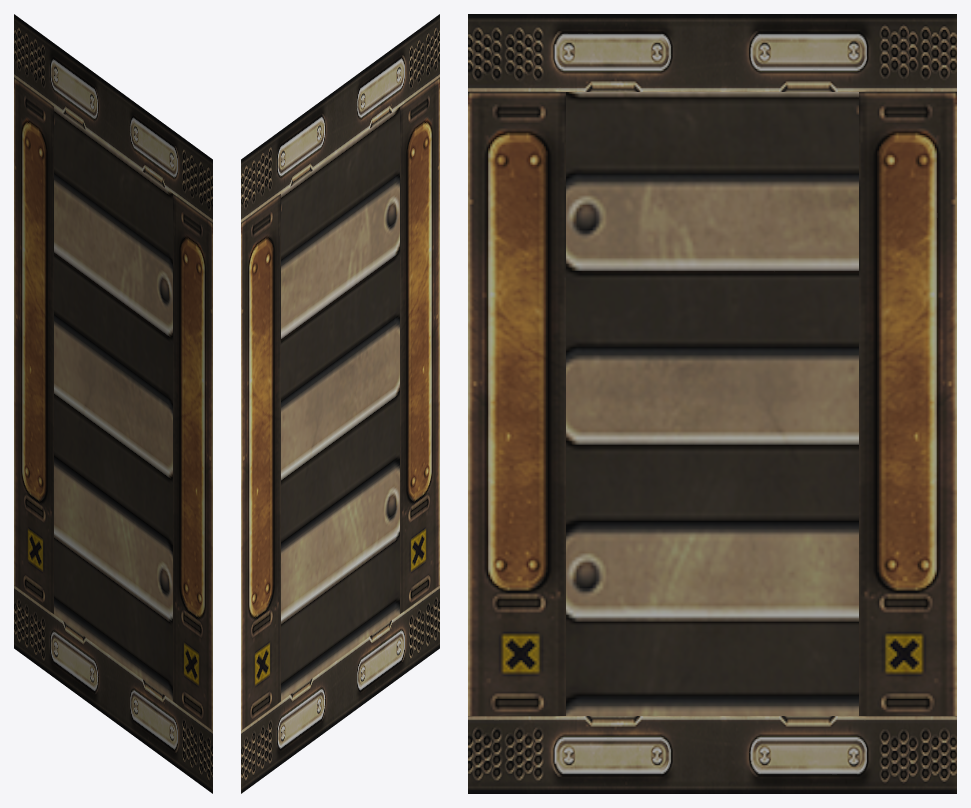
File: mpr_wall_long_tall.FBX
3 views of the same model, side by side, from view 1: azimuth 30°, elevation 25°; view 2: azimuth 150°, elevation 25°; view 3: azimuth 270°, elevation 25° (orthographic). The views are drawn at different scales.
Visible parts, largest first — view 1: mpr_wall_long_tall; view 2: mpr_wall_long_tall; view 3: mpr_wall_long_tall.
Part boxes in pixels (bbox=[...]): mpr_wall_long_tall: bbox=[14, 14, 212, 793]; mpr_wall_long_tall: bbox=[241, 14, 439, 793]; mpr_wall_long_tall: bbox=[468, 14, 956, 793].
Bounding box in the file's own units: 0 × 2592 × 1472.
Materials: 1 (1 with a texture image).
